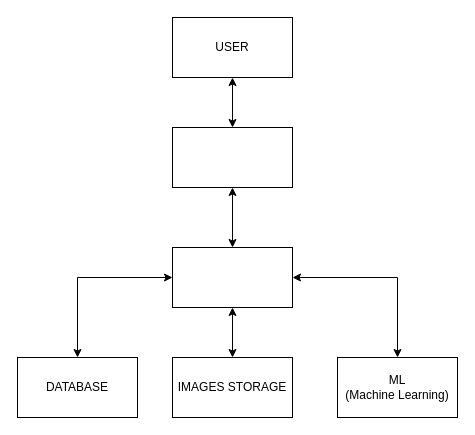
This 475x435 diagram has some shape labels left out. The shapes that lost their labels are listed below. From the top down, each one's centre as x and y in pixels, then its label:
the point at 232,157: FRONTEND
the point at 232,277: BACKEND
